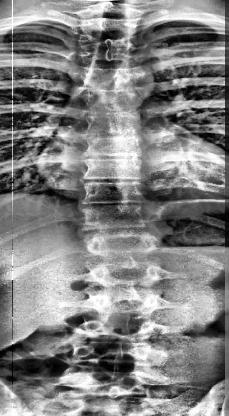Vertebrae: (88, 290, 176, 318), (68, 371, 158, 397), (75, 316, 161, 340), (67, 344, 159, 366), (90, 232, 160, 258), (94, 264, 168, 288), (80, 86, 143, 112), (83, 182, 151, 206), (80, 204, 154, 226), (84, 110, 146, 136), (80, 158, 144, 180), (87, 138, 147, 160), (84, 65, 144, 87), (85, 44, 139, 64), (84, 15, 144, 31), (79, 32, 141, 46)
